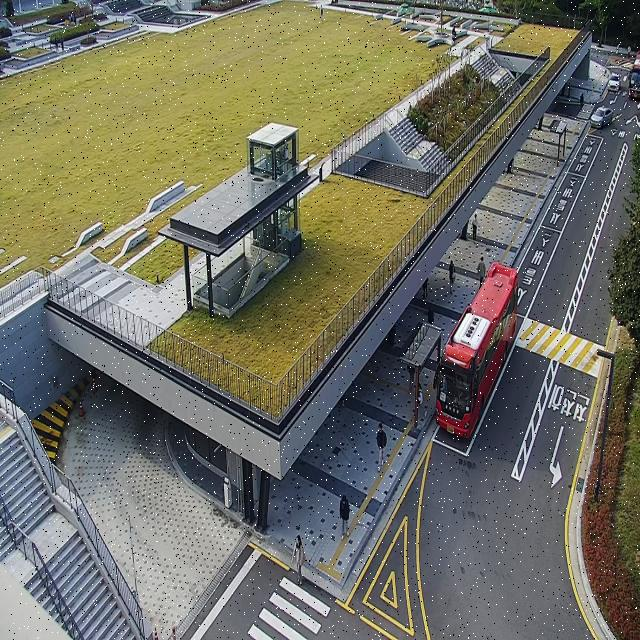queue: (414, 326, 442, 430)
